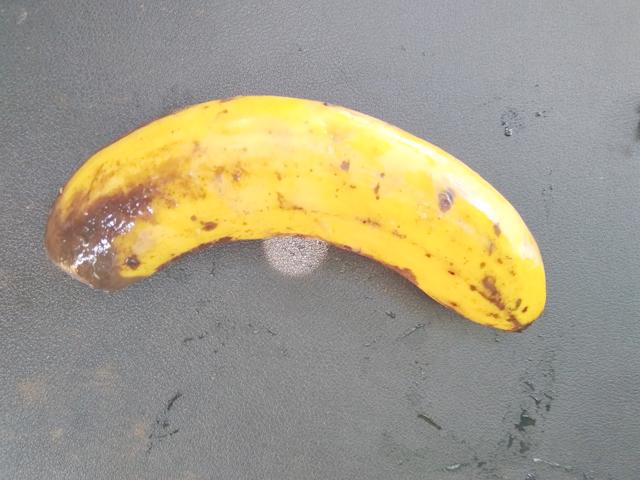overripe: (189, 77, 560, 348)
rotten: (0, 104, 225, 340)
